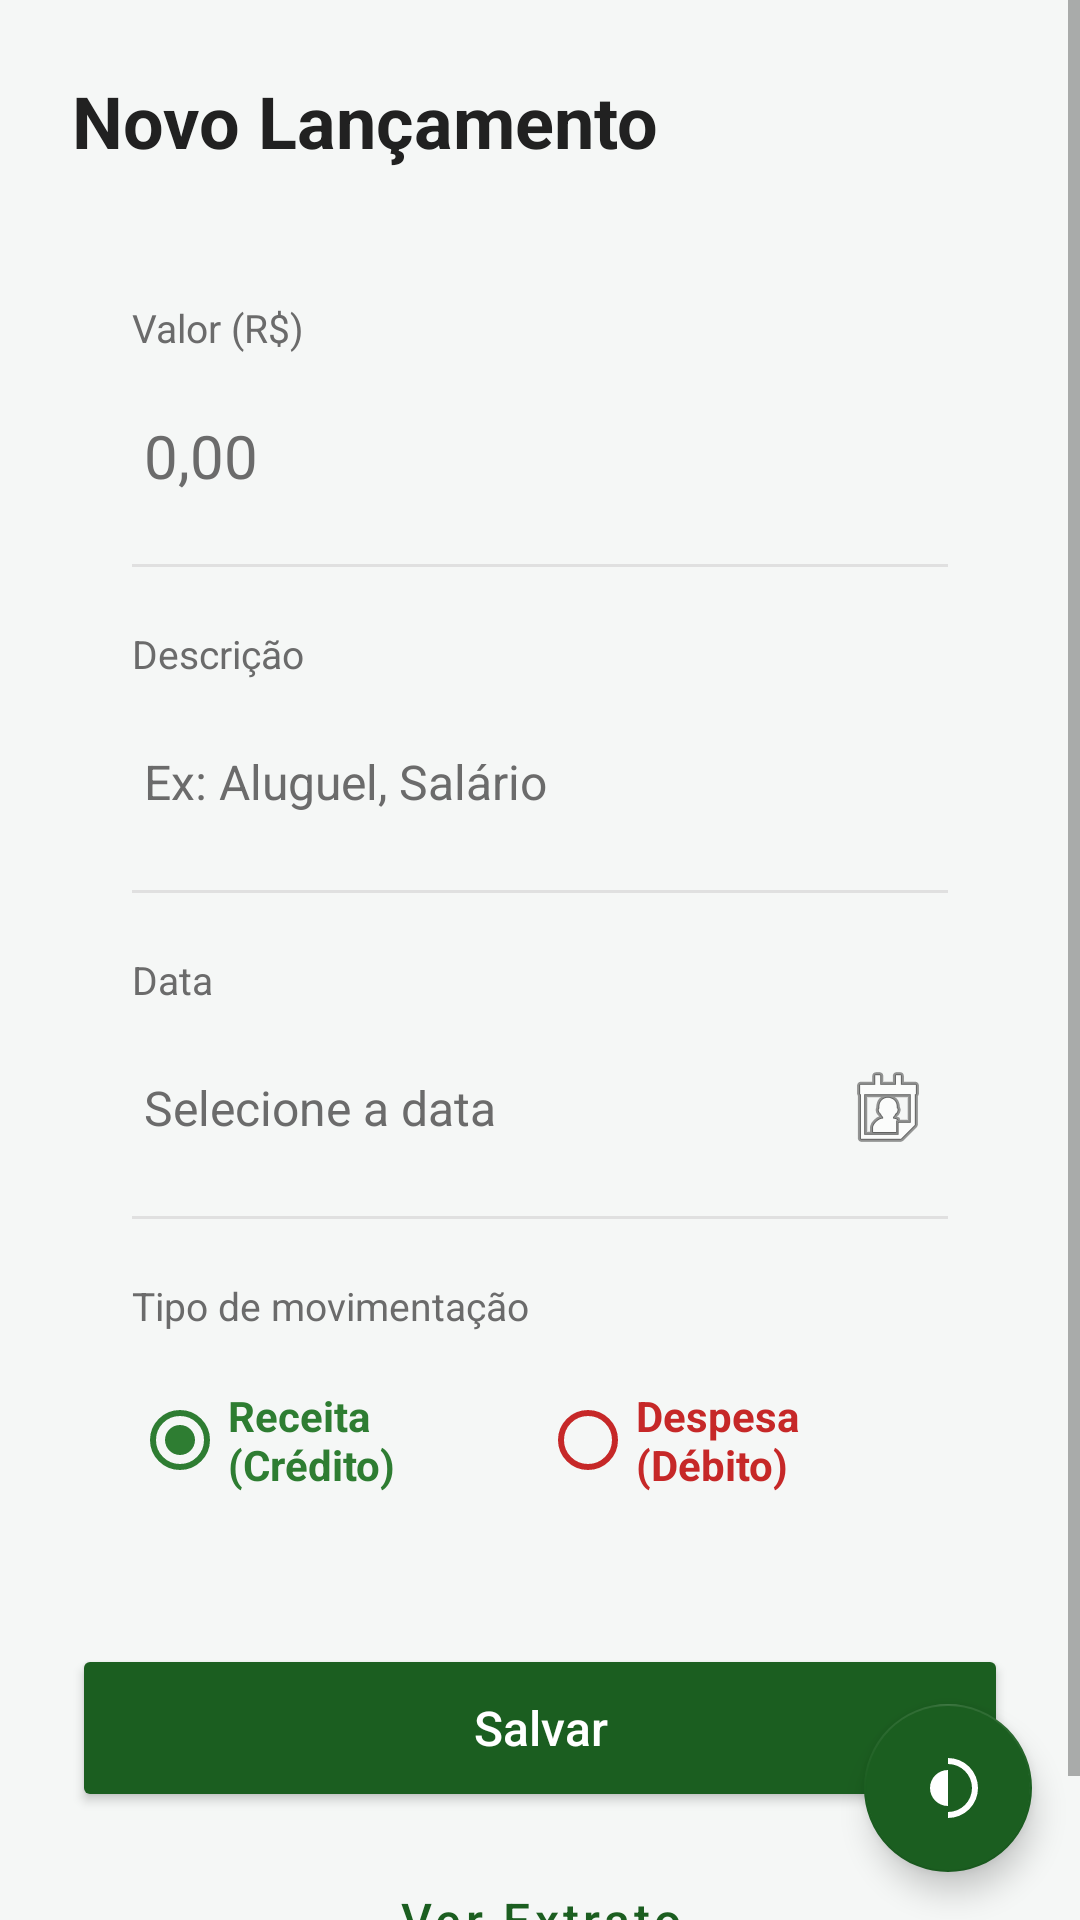

Icon click points for this 1080×1920 phone screenshot, format (x=x, y=y):
Alternar tema: (x=948, y=1788)
